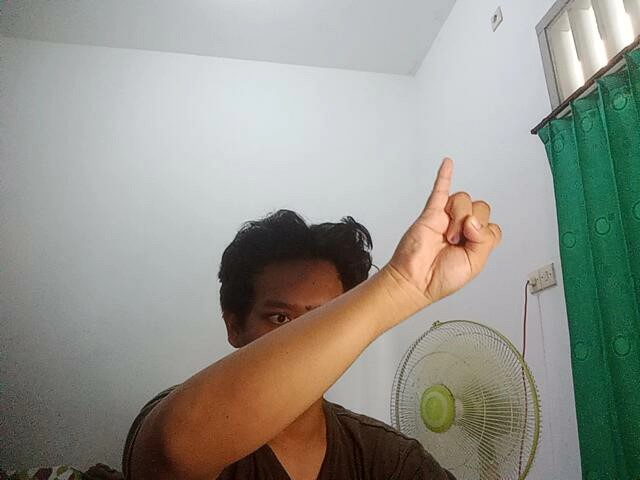I: (383, 149, 510, 289)
